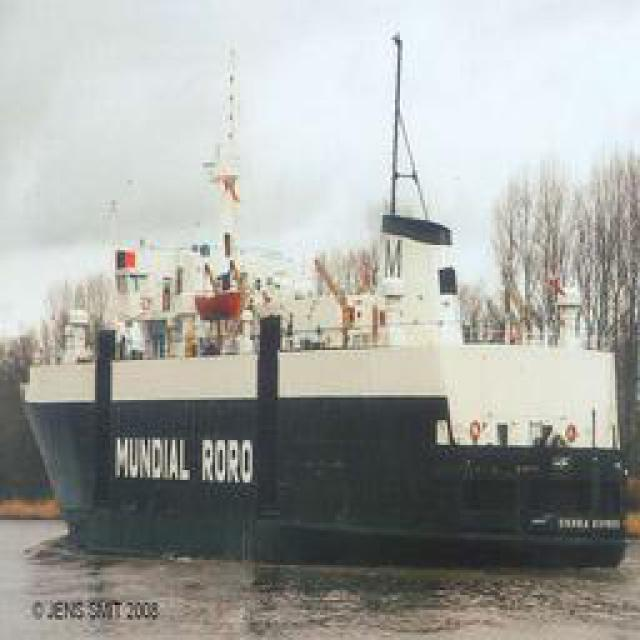Ship: (20, 246, 635, 579)
